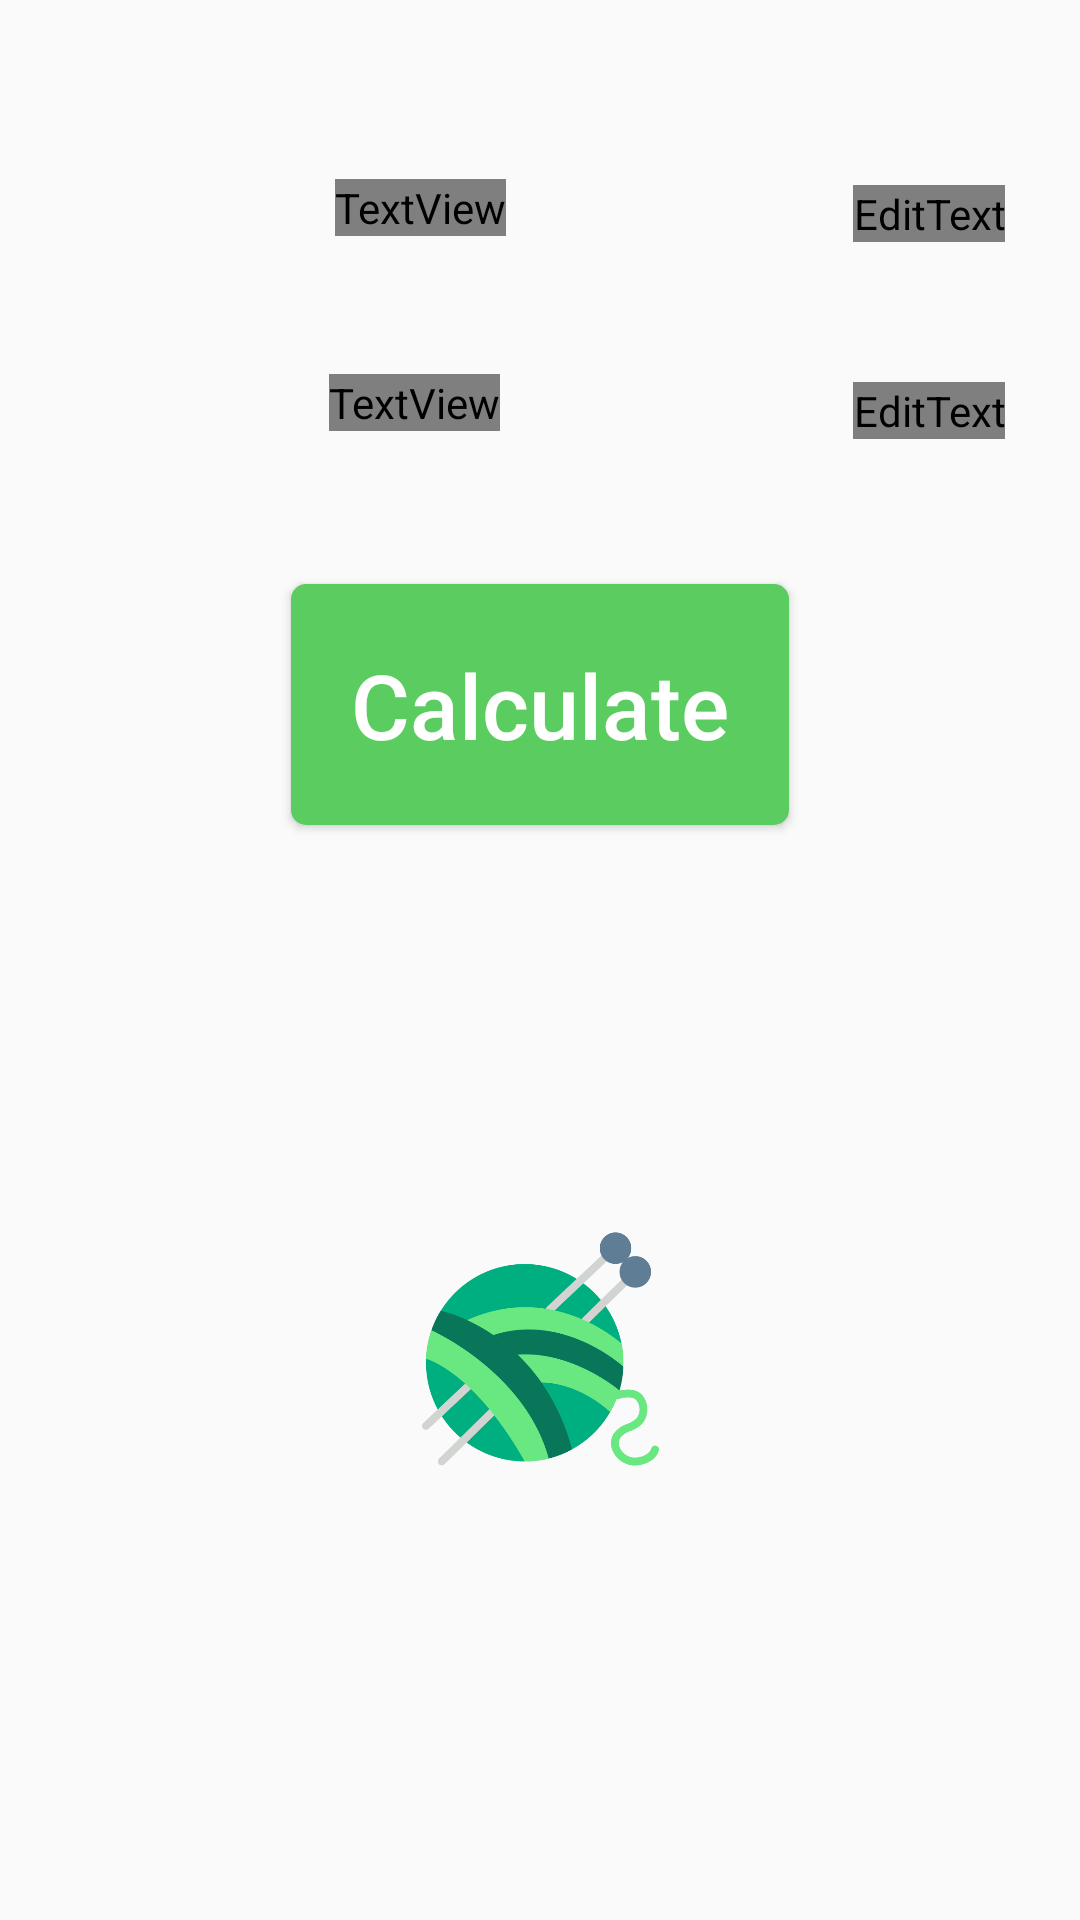

Icons on this 1080 × 1920 Android screen, each with its box as {"x1": x1, "y1": y1, "x2": x2, "y2": y2}:
yarn: {"x1": 422, "y1": 1232, "x2": 659, "y2": 1466}
